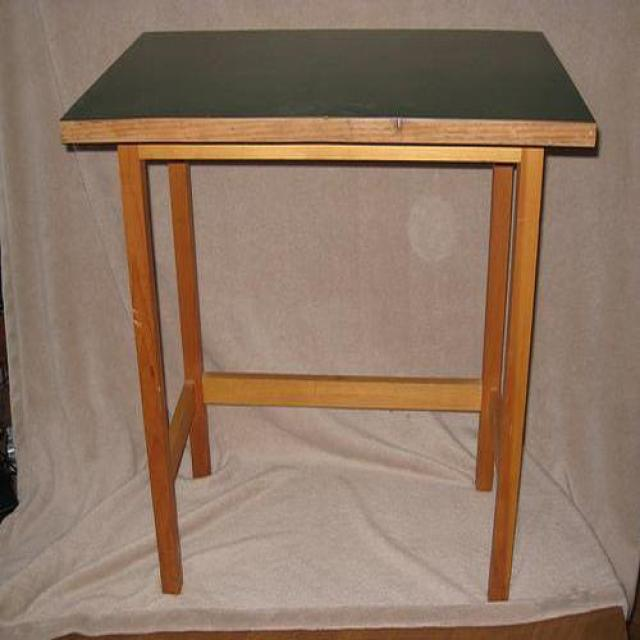table: (59, 29, 600, 600)
